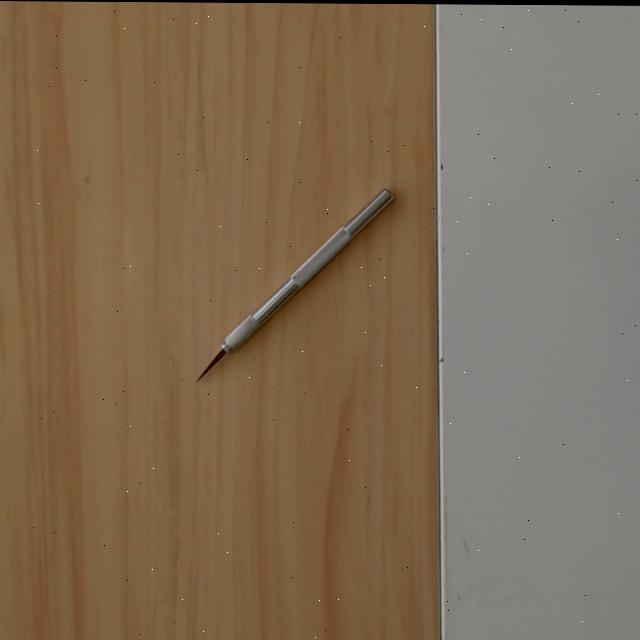Cutter-Kecil: (188, 184, 396, 384)
